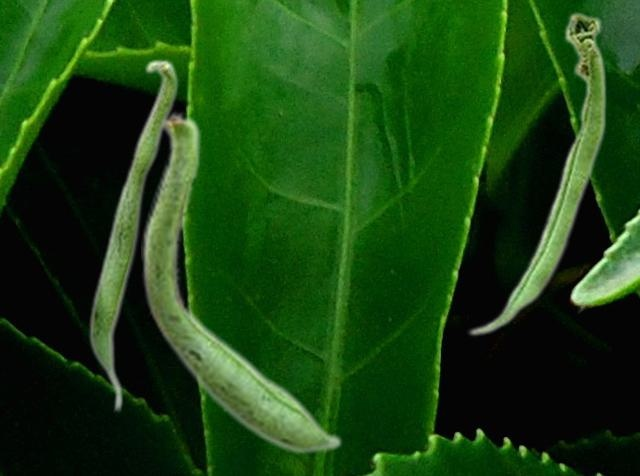french_bean: (141, 109, 342, 454), (467, 10, 606, 336), (88, 58, 178, 413)
